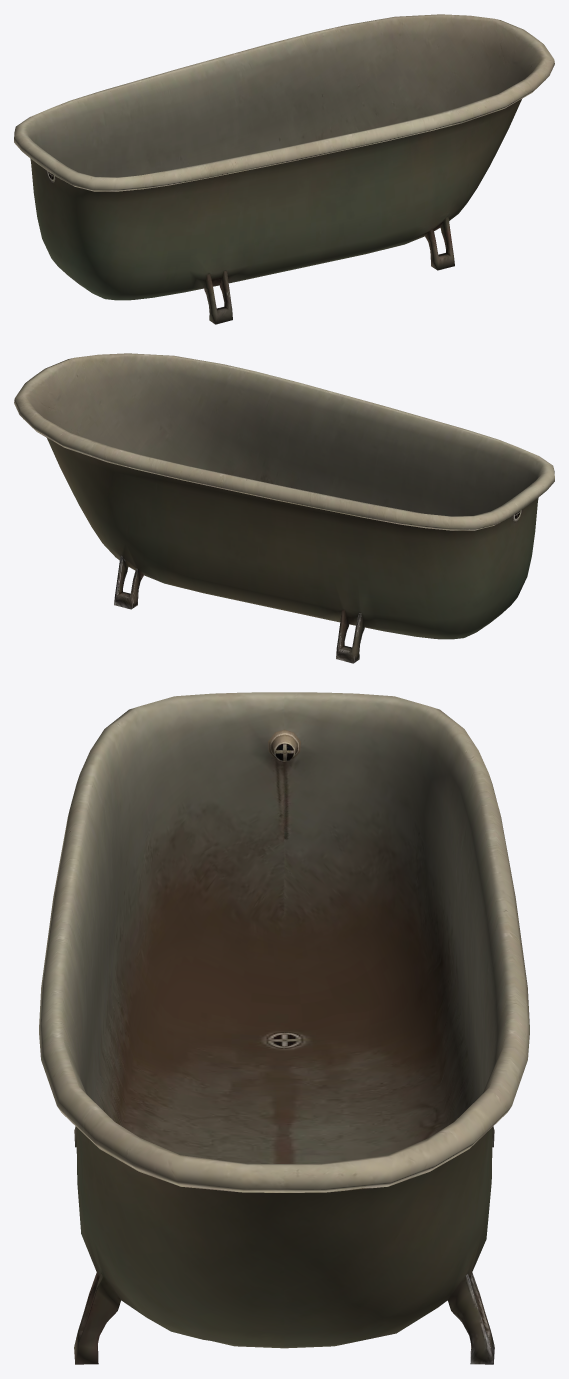
Rendered from Bath.glb.
The picture shows the model from 3 angles, top to bottom: view 1: azimuth 30°, elevation 25°; view 2: azimuth 150°, elevation 25°; view 3: azimuth 270°, elevation 25°; orthographic projection. The views are drawn at different scales.
Parts seen in each view (by area): view 1: Object_2; view 2: Object_2; view 3: Object_2.
Boxes of the visible parts, bbox=[...] form: Object_2: bbox=[14, 14, 554, 324]; Object_2: bbox=[14, 353, 554, 663]; Object_2: bbox=[39, 692, 529, 1364].
Bounding box in the file's own units: 1150 × 357 × 493.
Materials: 1 (1 with a texture image).
